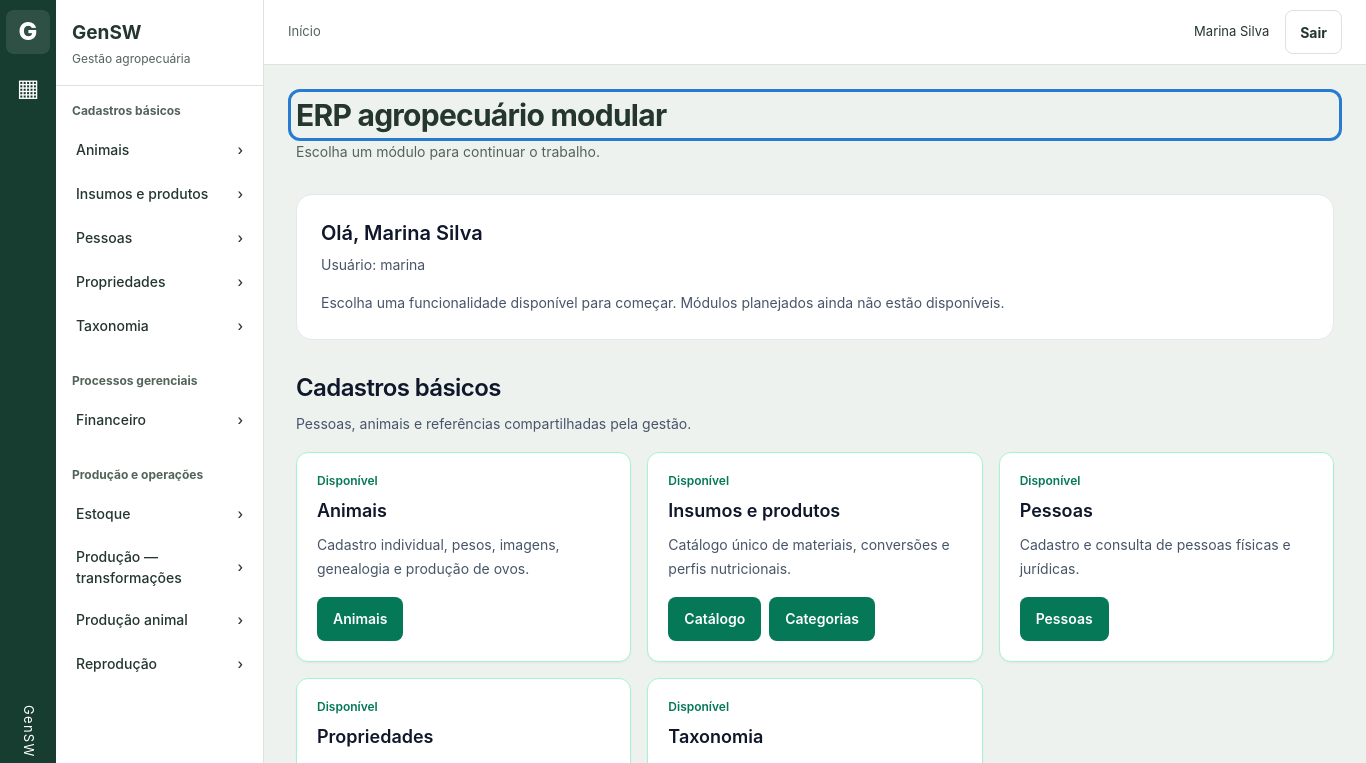
AppRoutes › encerra a sessão local e navega para o login
Click the button "Sair" at coordinates (1314, 32), box x1=1285 y1=10 x2=1342 y2=54
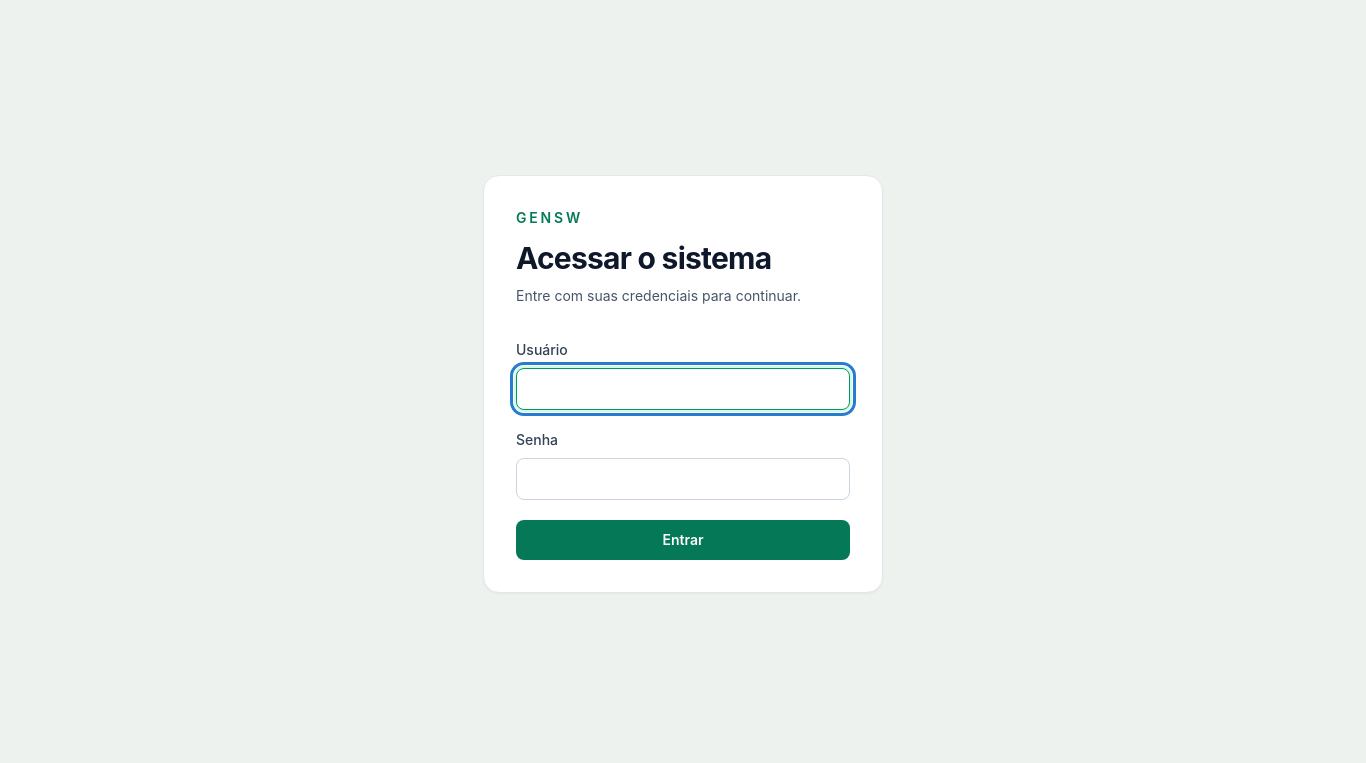
Now the heading "Acessar o sistema" is shown, box x1=516 y1=240 x2=771 y2=276
